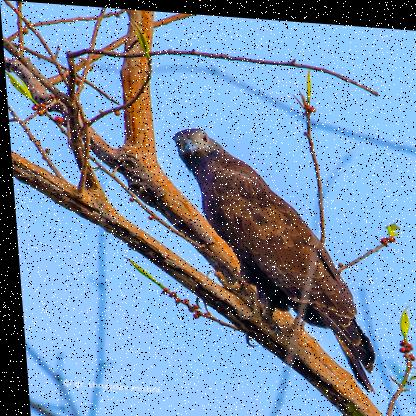Burung: (153, 120, 383, 390)
